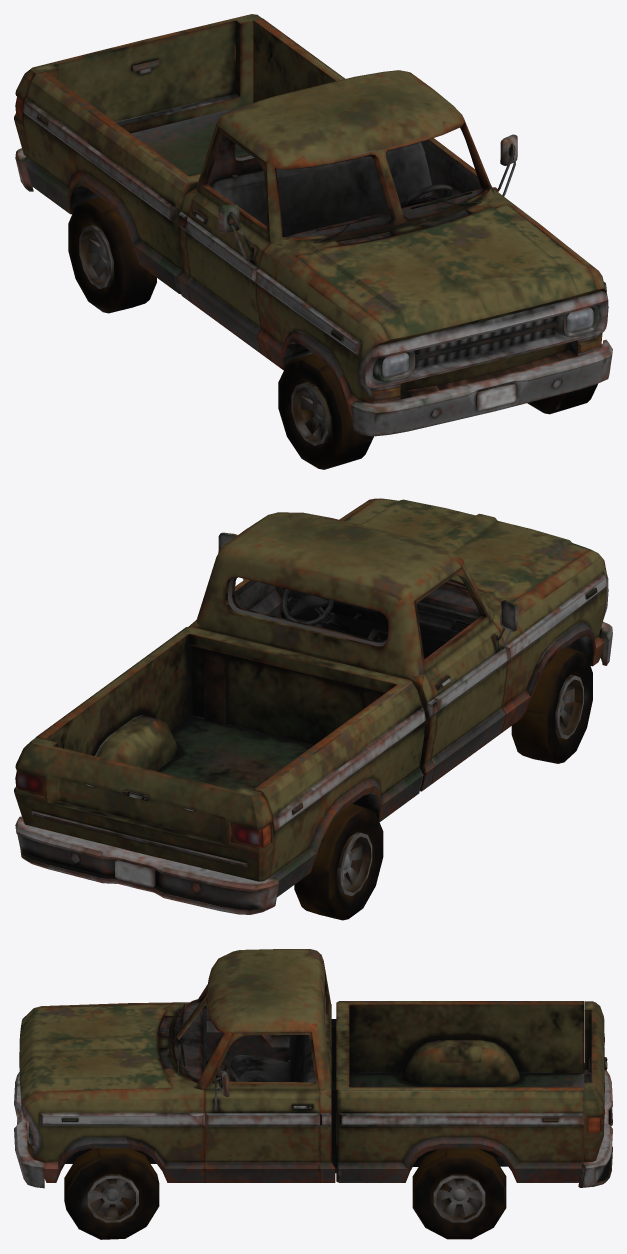
The model's file is rusty_abandoned_truck_with_interior_-_game_ready.glb.
3 views of the same model, one above another, from view 1: azimuth 30°, elevation 25°; view 2: azimuth 150°, elevation 25°; view 3: azimuth 270°, elevation 25° (orthographic). The views are drawn at different scales.
Visible parts, largest first — view 1: KUZA_15, KAPOT_3, BAQAJ DOOR_1, QAPI.001_8, ON-BUFER_5, TEKER.003_13, TEKER.004_14, QAPI_7, KUZA.001_4, TEKER.001_11; view 2: KUZA_15, BAQAJ DOOR_1, KAPOT_3, QAPI.001_8, ON-BUFER.001_6, TEKER.004_14, TEKER.003_13, SALON_10, QAPI_7, ARXA FARA_0, ROL_9; view 3: KUZA_15, QAPI_7, KAPOT_3, TEKER.002_12, TEKER.001_11, BAQAJ DOOR_1, QAPI.001_8, ON-BUFER.001_6, ON-BUFER_5.
Part boxes in pixels (<box>): KUZA_15: <box>23,18,608,419</box>; KAPOT_3: <box>295,204,596,339</box>; BAQAJ DOOR_1: <box>14,14,261,157</box>; QAPI.001_8: <box>185,127,270,353</box>; ON-BUFER_5: <box>351,339,612,436</box>; TEKER.003_13: <box>278,353,373,469</box>; TEKER.004_14: <box>68,197,156,313</box>; QAPI_7: <box>421,127,517,199</box>; KUZA.001_4: <box>382,308,593,377</box>; TEKER.001_11: <box>527,384,597,414</box>; KUZA_15: <box>36,498,608,897</box>; BAQAJ DOOR_1: <box>14,737,274,881</box>; KAPOT_3: <box>345,498,591,602</box>; QAPI.001_8: <box>414,567,517,784</box>; ON-BUFER.001_6: <box>15,816,278,914</box>; TEKER.004_14: <box>294,804,383,920</box>; TEKER.003_13: <box>511,647,592,763</box>; SALON_10: <box>276,586,479,651</box>; QAPI_7: <box>218,532,282,617</box>; ARXA FARA_0: <box>15,770,271,847</box>; ROL_9: <box>281,589,333,625</box>; KUZA_15: <box>19,949,586,1182</box>; QAPI_7: <box>204,1032,319,1182</box>; KAPOT_3: <box>19,1003,172,1100</box>; TEKER.002_12: <box>412,1148,506,1239</box>; TEKER.001_11: <box>64,1148,159,1239</box>; BAQAJ DOOR_1: <box>584,1001,607,1161</box>; QAPI.001_8: <box>205,1002,290,1081</box>; ON-BUFER.001_6: <box>578,1063,612,1187</box>; ON-BUFER_5: <box>14,1072,44,1188</box>.
Bounding box in the file's own units: 14.59 × 12 × 31.09.
Materials: 1 (1 with a texture image).
